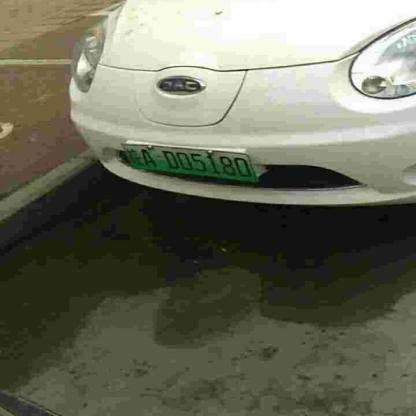lp: (120, 144, 258, 181)
